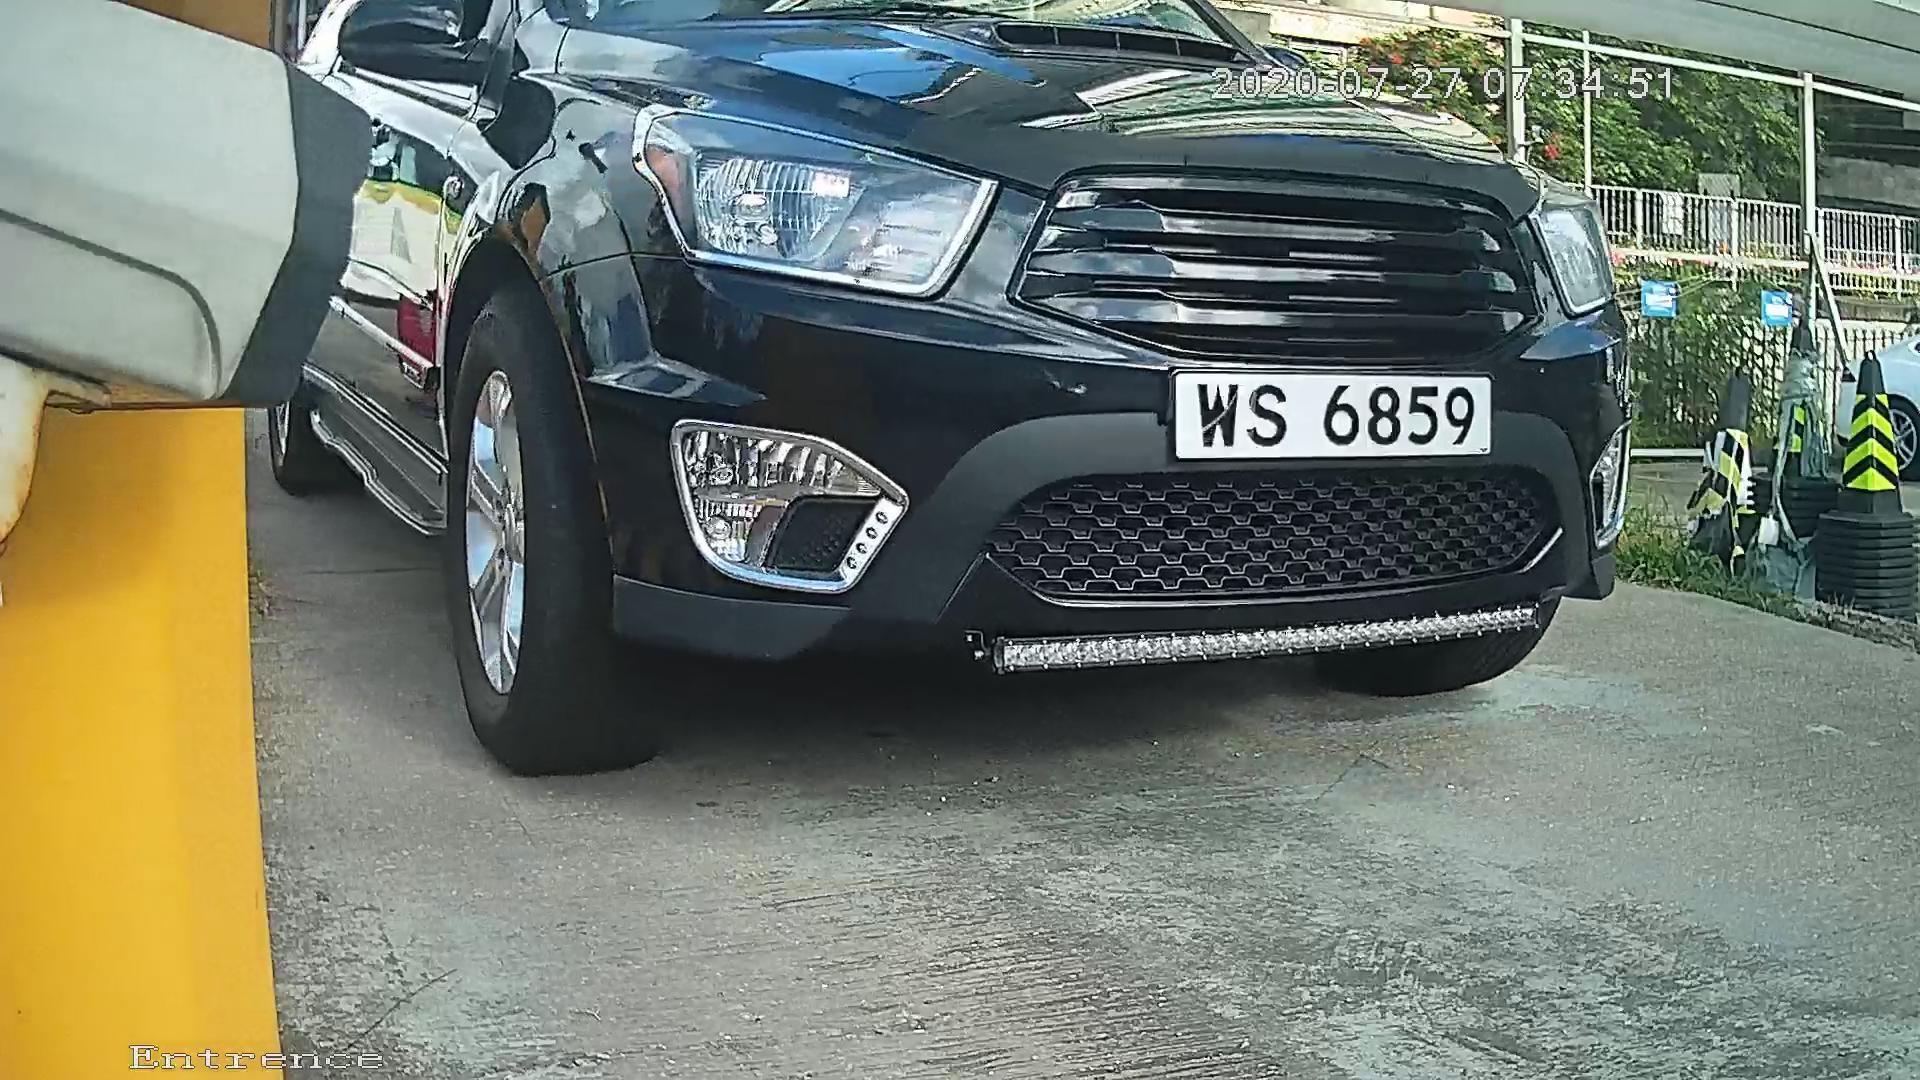Car: (146, 58, 1749, 753)
License Plate: (1149, 352, 1509, 483)
